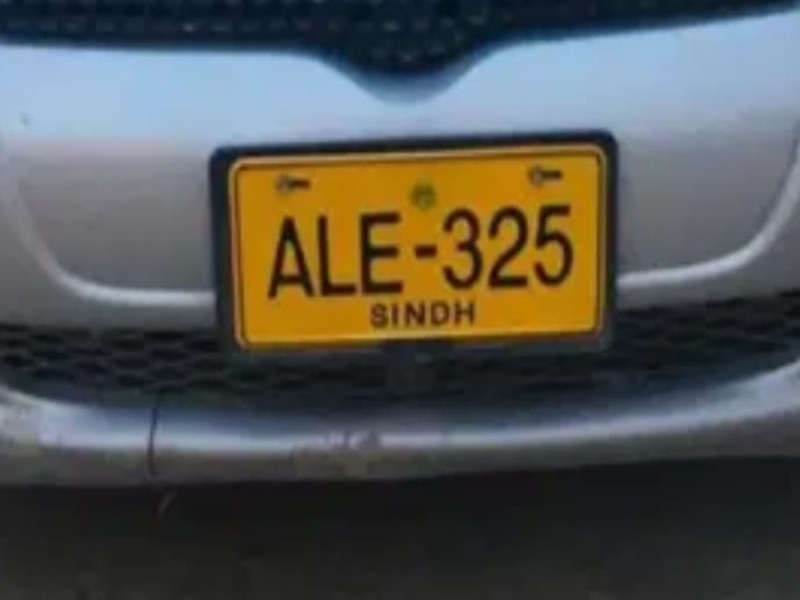License Plate: (207, 130, 619, 354)
